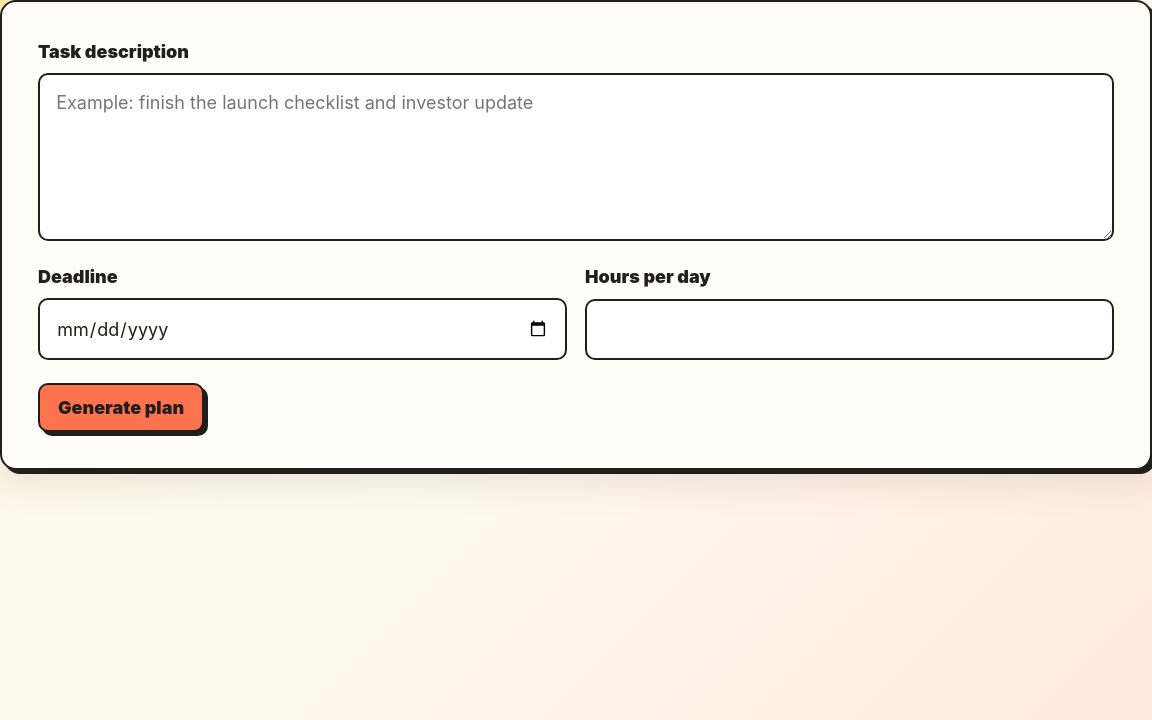
Test: TaskForm › shows a safe error for malformed API responses
This screenshot has width=1152, height=720.
Step 1. Type "Ship the Deadline AI MVP" into the text box labelled "Task description" → coordinates (576, 157), box [38,73,1114,241]
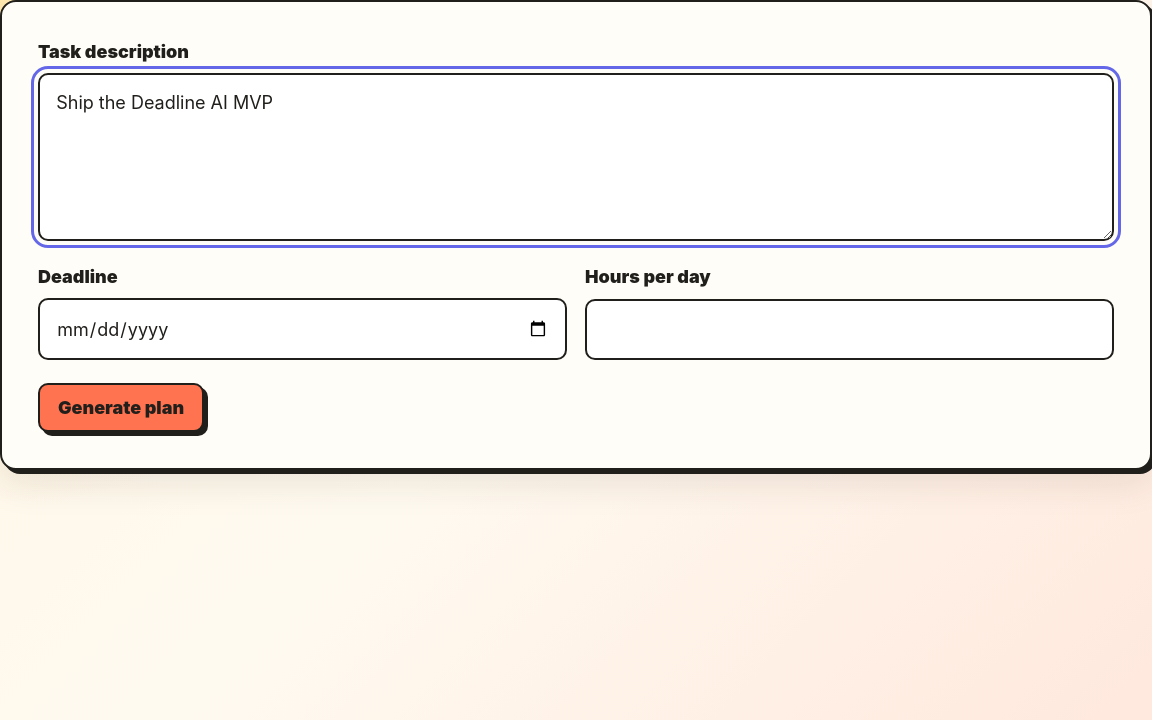
Step 2. Type "2026-06-24" into the date field labelled "Deadline" → coordinates (302, 329), box [38,298,567,360]
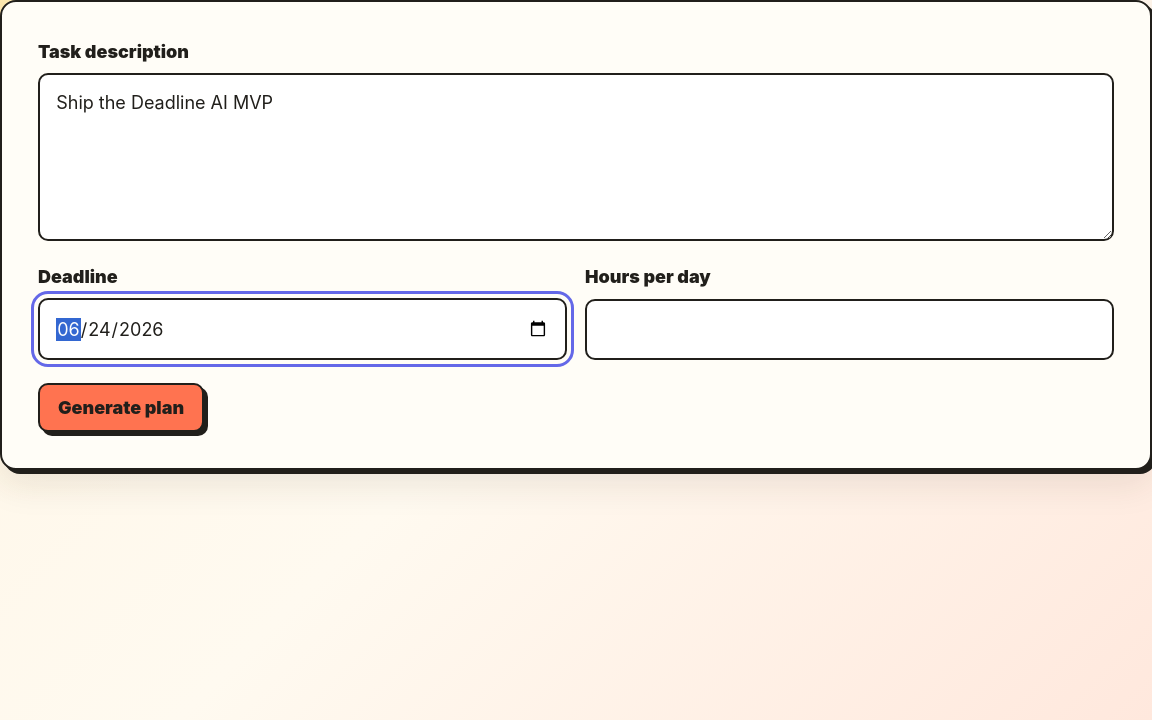
Step 3. Type "2" into the number field labelled "Hours per day" → coordinates (850, 330), box [585,300,1114,360]
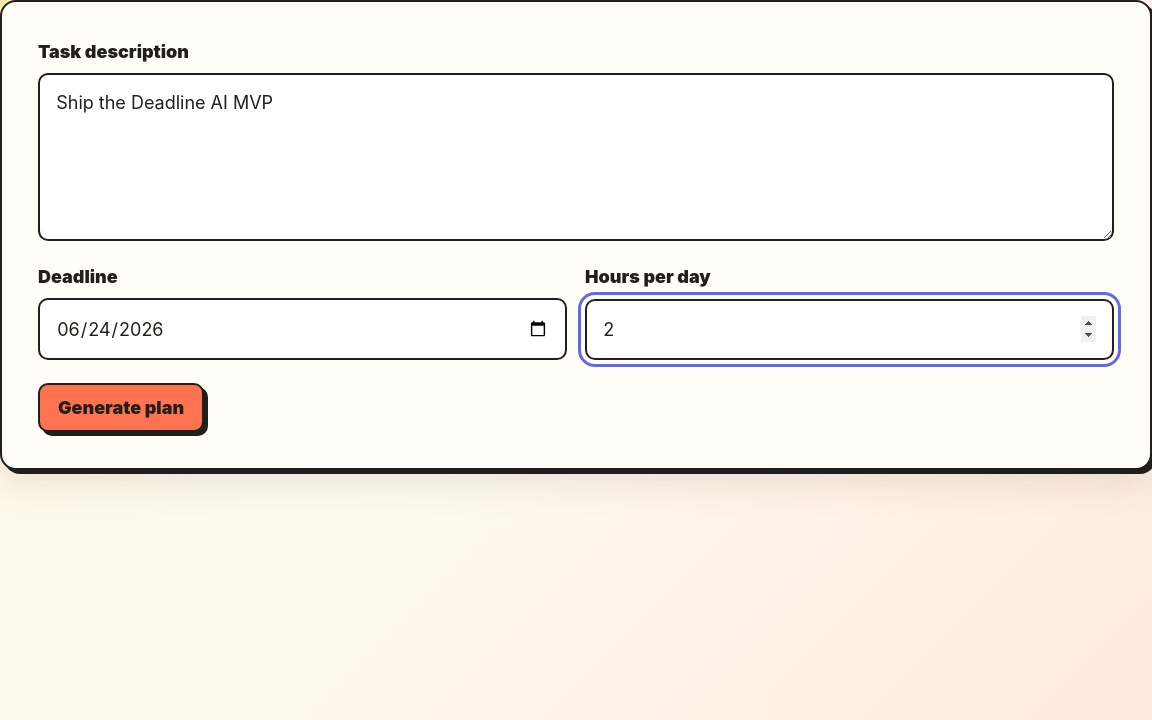
Step 4. Click the button "Generate plan" → coordinates (121, 408), box [38,383,204,432]
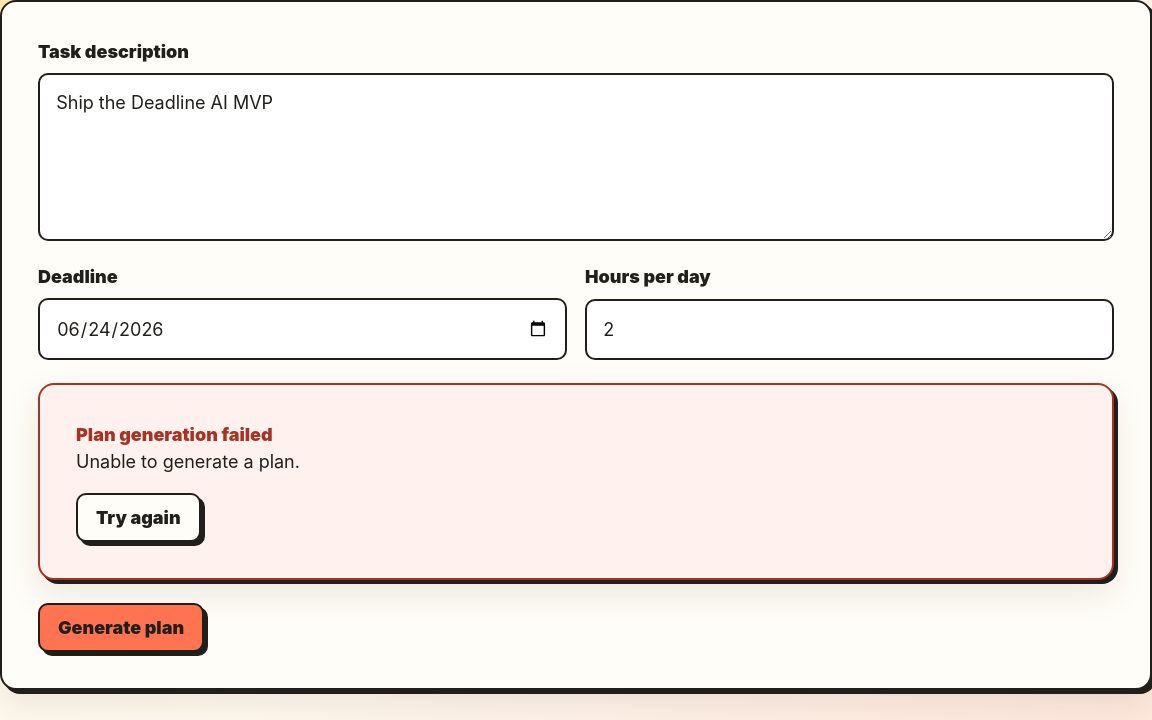
expect the text "Unable to generate a plan." is shown: met, box [76,451,300,472]
